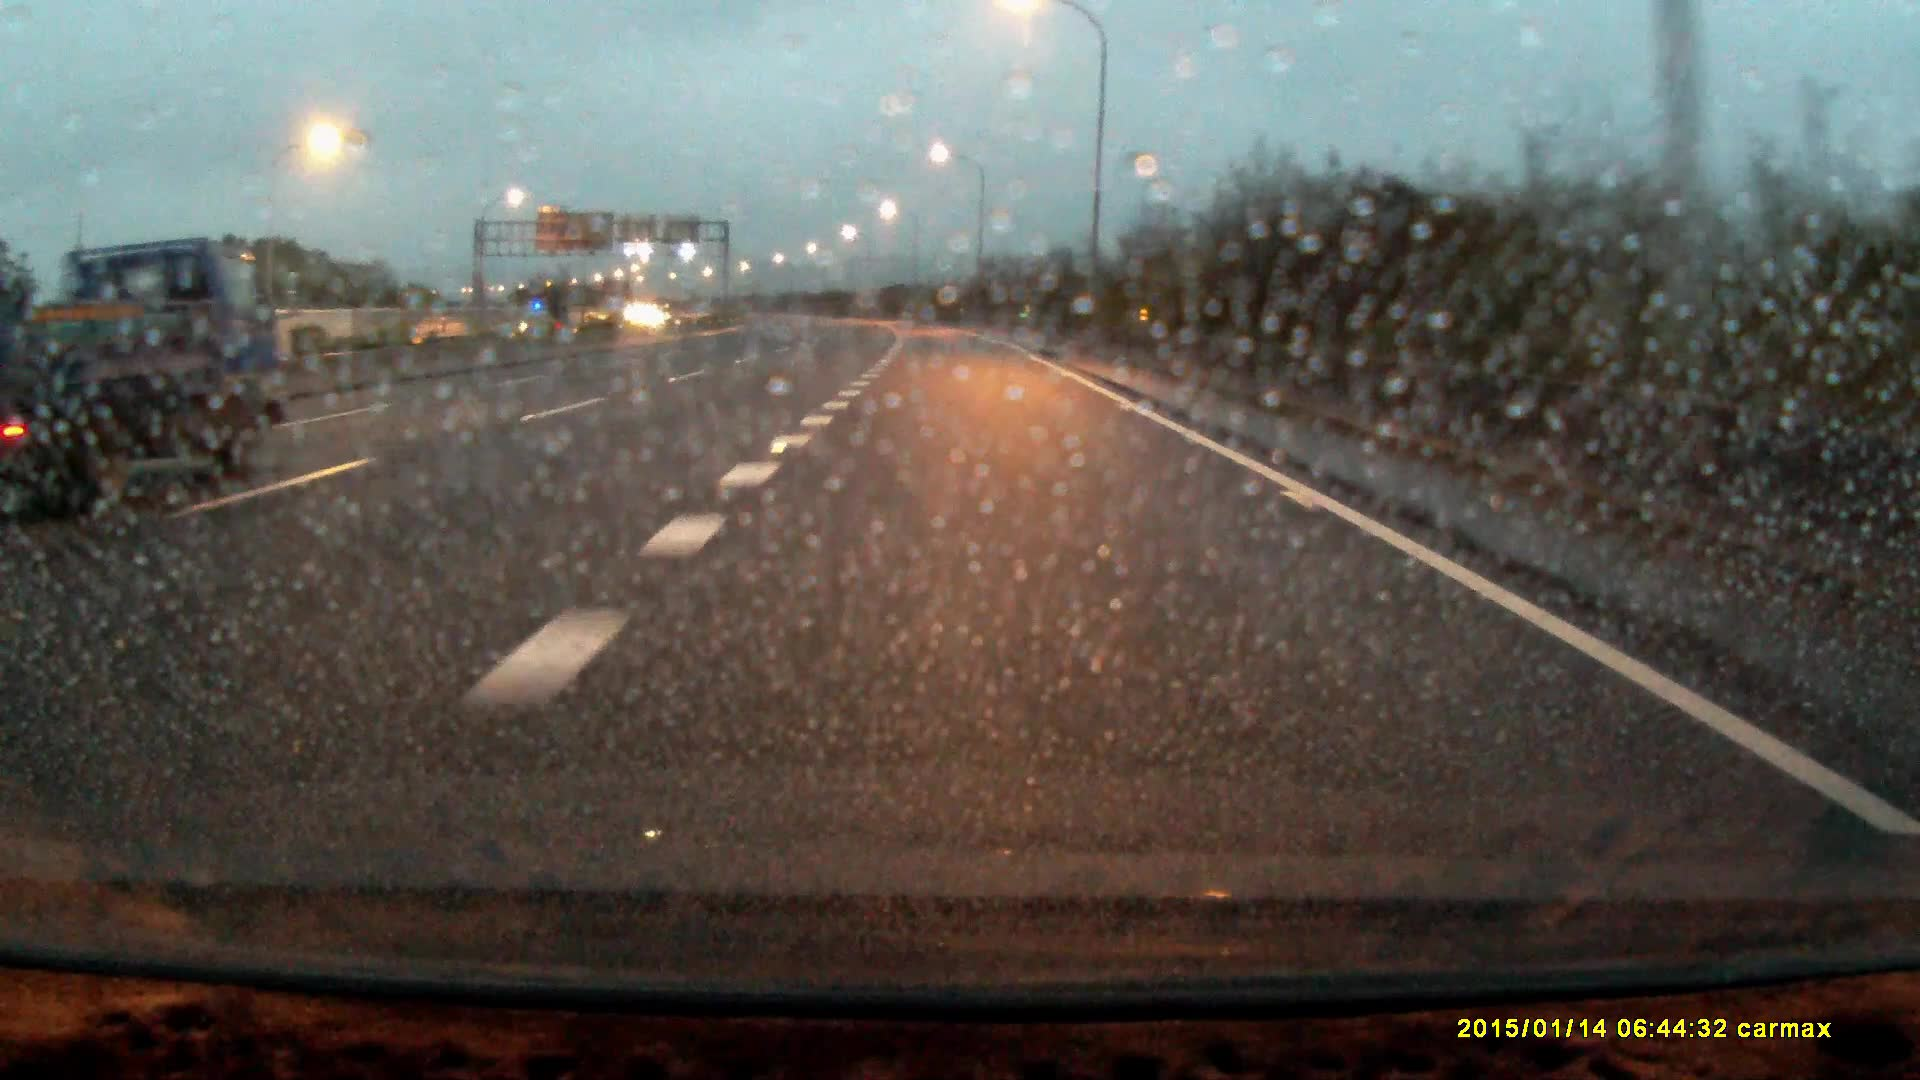vehicle: (1, 223, 343, 518)
